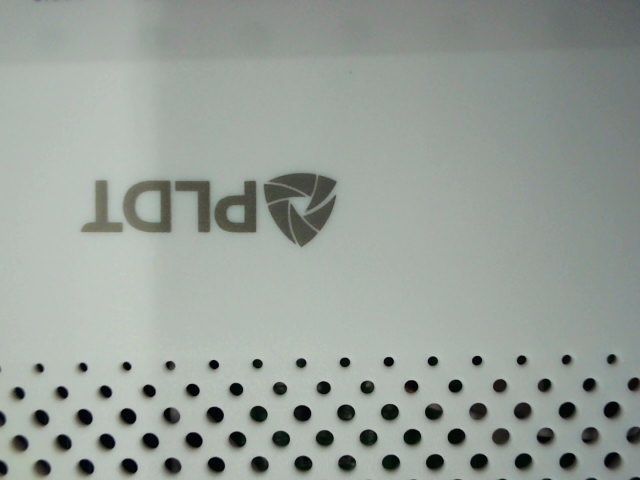BH_PLDT: (65, 161, 363, 254)
